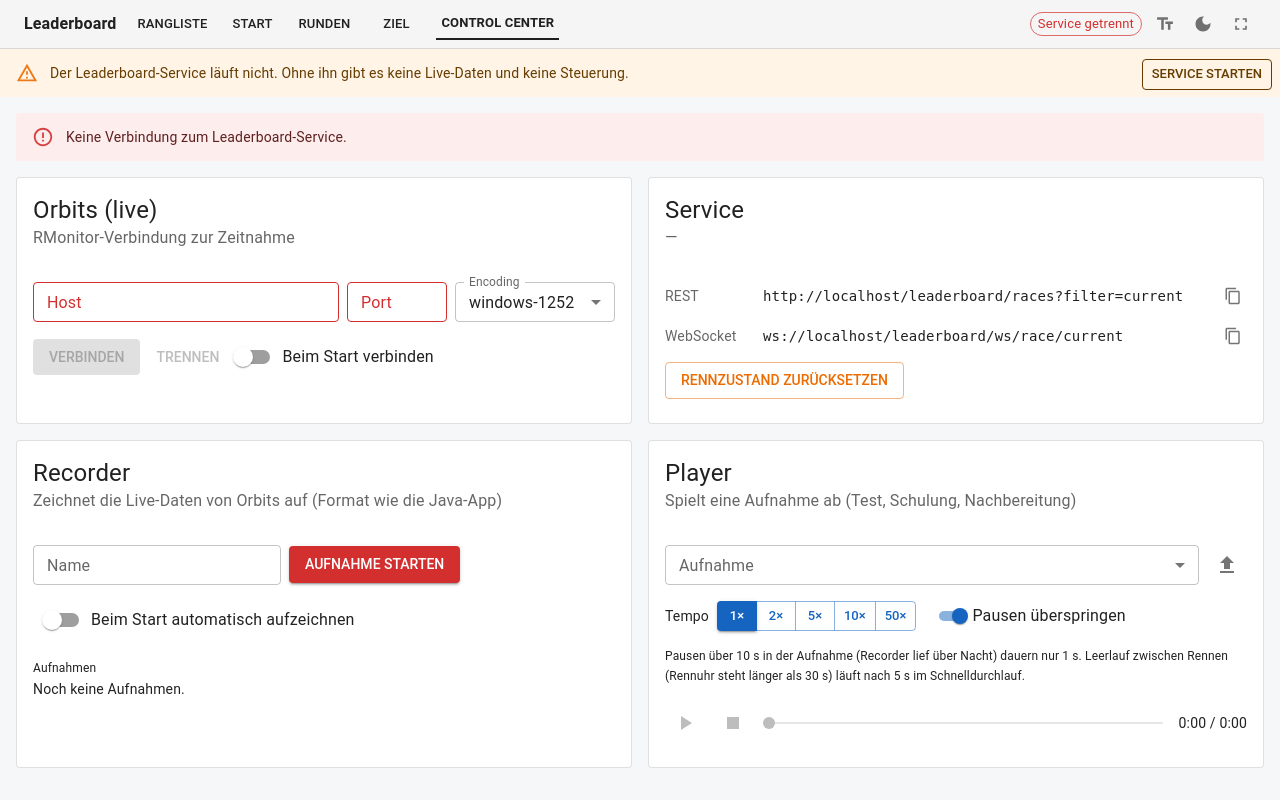
Test: service offline › offers to start the stopped service and reconnects immediately afterwards
The width and height of the screenshot is (1280, 800).
Expected: the text "Der Leaderboard-Service läuft nicht" is shown, [50,65,629,81]
Click the button "Service starten".
click(1207, 74)  # box [1142,59,1272,90]
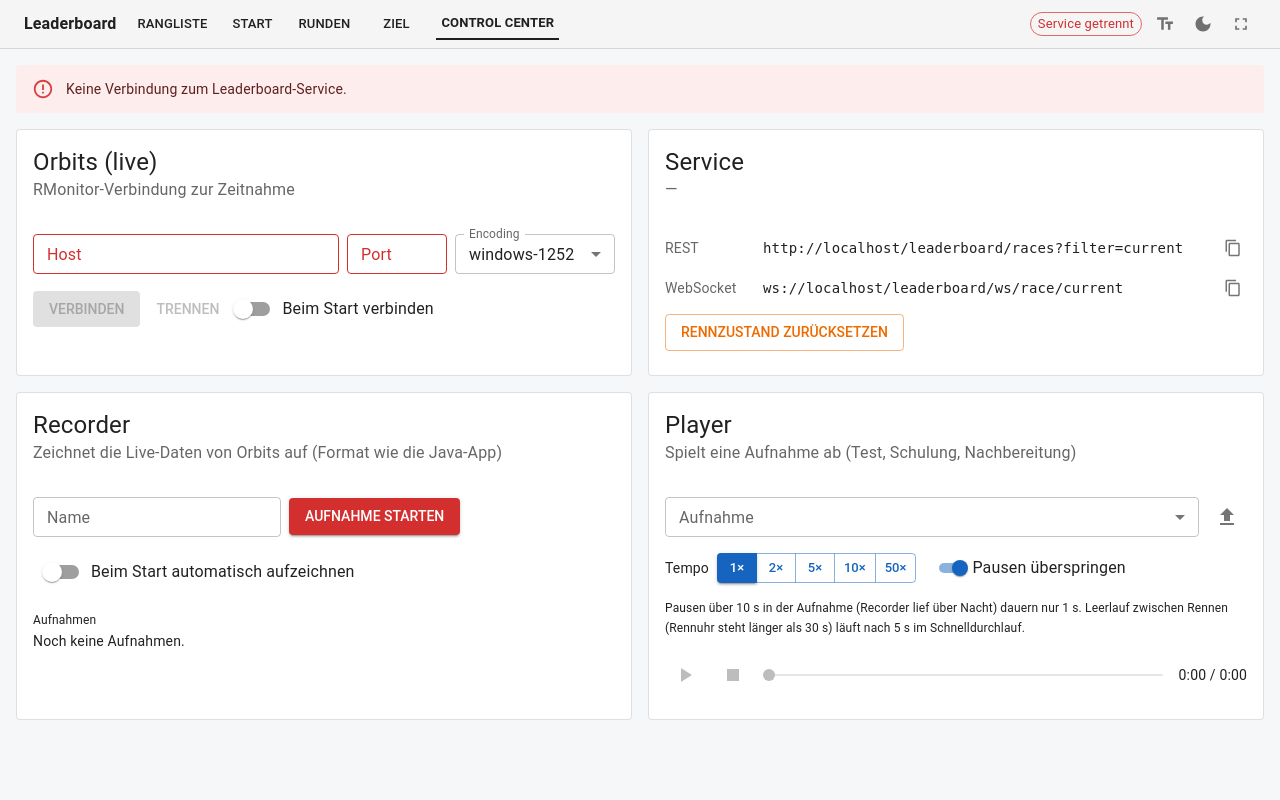
Now the text "Der Leaderboard-Service läuft nicht" is gone
